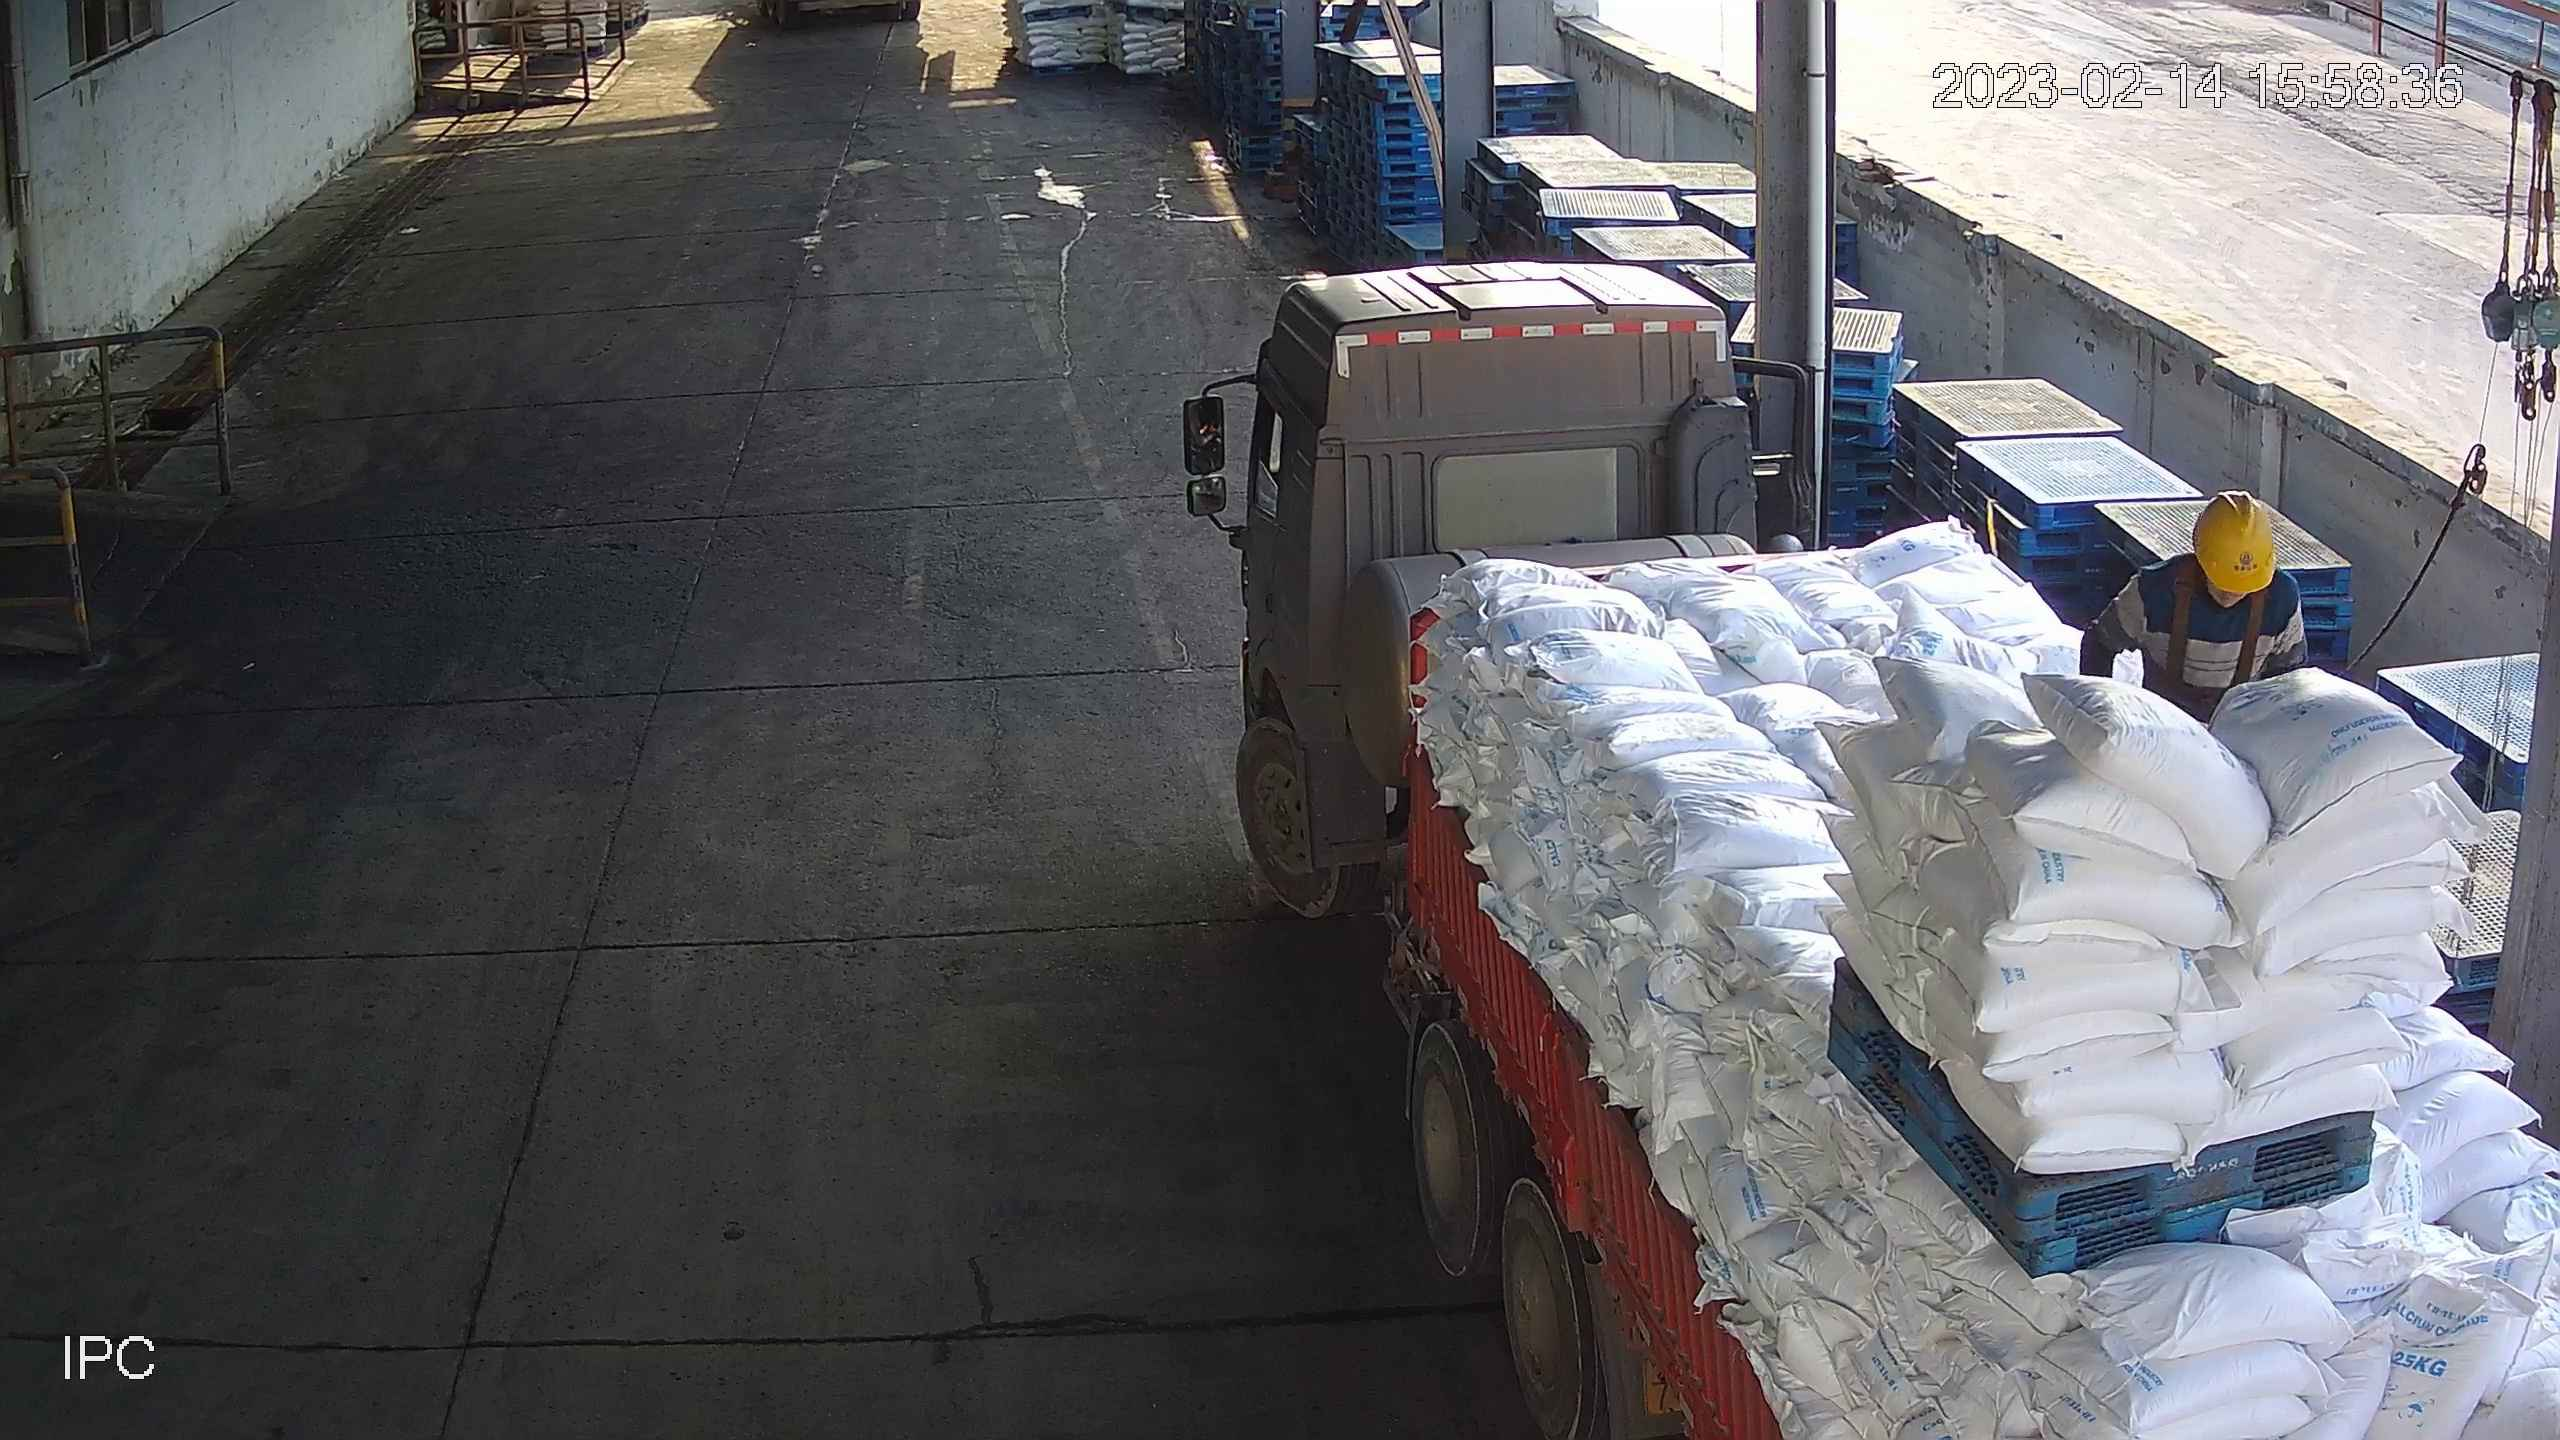belt: (2157, 557, 2260, 692)
head: (2128, 487, 2302, 625)
helmet: (2192, 488, 2277, 593)
truck: (1226, 255, 2560, 1440)
